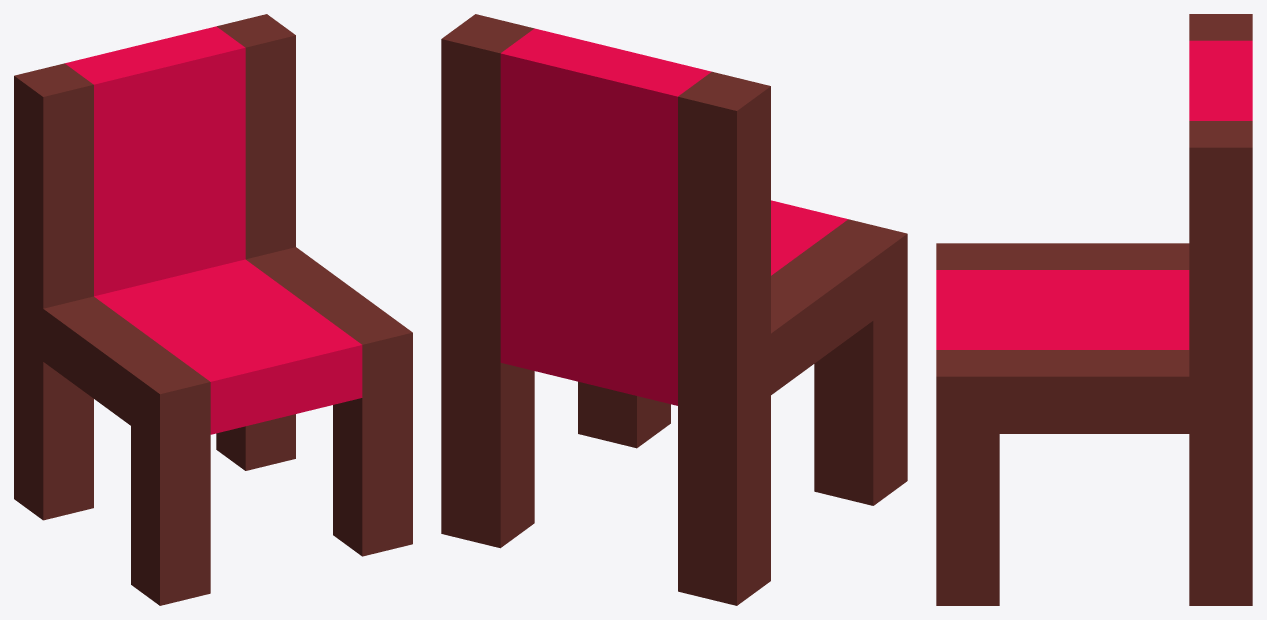
The model's file is chair_b_red.obj.
The picture shows the model from 3 angles, left to right: view 1: azimuth 30°, elevation 25°; view 2: azimuth 150°, elevation 25°; view 3: azimuth 270°, elevation 25°; orthographic projection. The views are drawn at different scales.
Bounding box in the file's own units: 0.5 × 0.8 × 0.5.
1 material, 1 textured.
